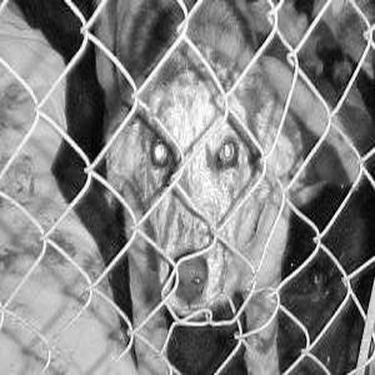dog: (60, 1, 364, 372), (1, 4, 149, 374)
